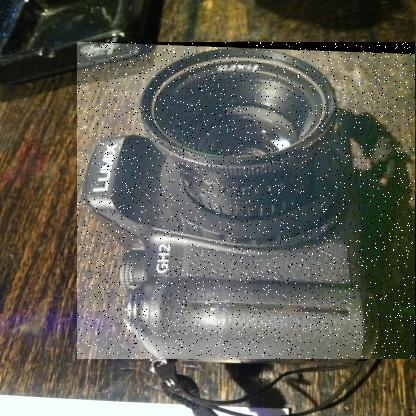Camera: (78, 43, 416, 361)
